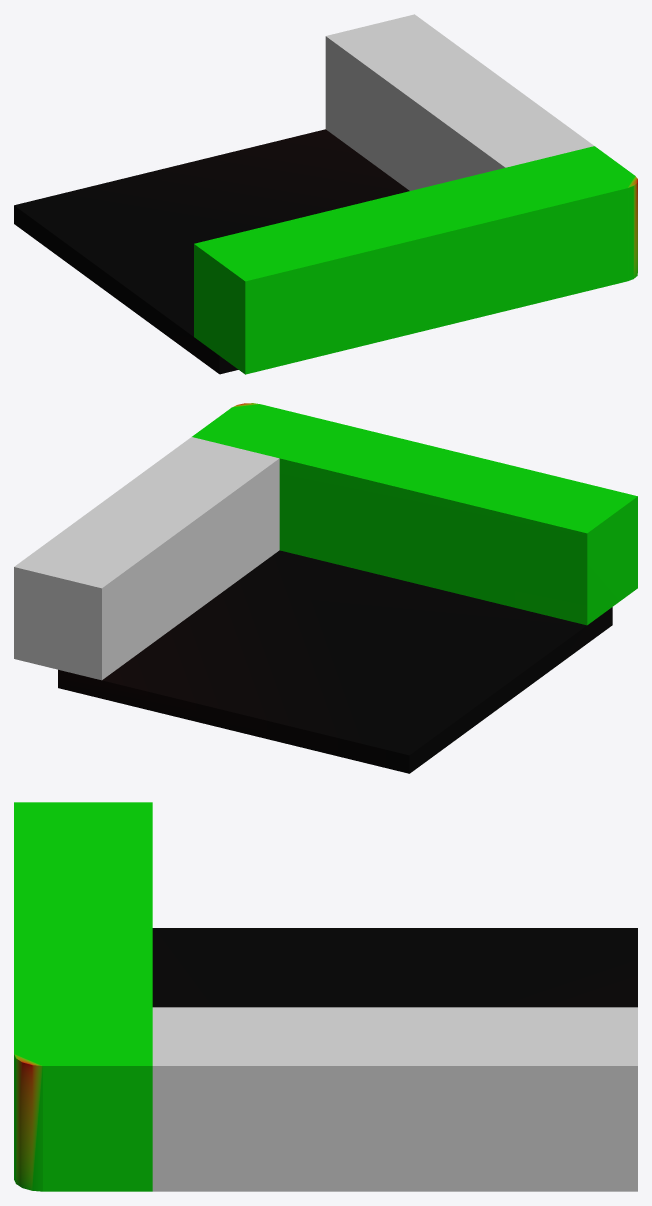
The model's file is FlatRoof_Corner.fbx.
3 renders of one model, top to bottom at view 1: azimuth 30°, elevation 25°; view 2: azimuth 150°, elevation 25°; view 3: azimuth 270°, elevation 25°, orthographic. The views are drawn at different scales.
Visible parts, largest first — view 1: FlatRoof_Side, FlatRoof_Corner, FlatRoof_Side_1; view 2: FlatRoof_Corner, FlatRoof_Side, FlatRoof_Side_1; view 3: FlatRoof_Side_1, FlatRoof_Side, FlatRoof_Corner.
Part boxes in pixels (x1,y1,x2,y2): FlatRoof_Side: (194, 146, 637, 374); FlatRoof_Corner: (14, 129, 409, 374); FlatRoof_Side_1: (325, 14, 593, 190); FlatRoof_Corner: (58, 550, 612, 773); FlatRoof_Side: (192, 403, 637, 625); FlatRoof_Side_1: (14, 437, 279, 680); FlatRoof_Side_1: (152, 1007, 637, 1191); FlatRoof_Side: (14, 802, 152, 1191); FlatRoof_Corner: (152, 928, 637, 1007).
Bounding box in the file's own units: 450 × 120 × 450.
